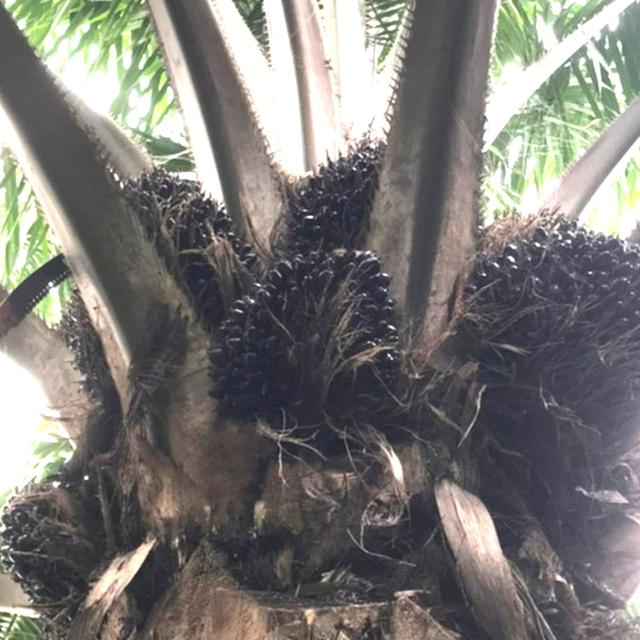almost: (198, 234, 422, 448)
